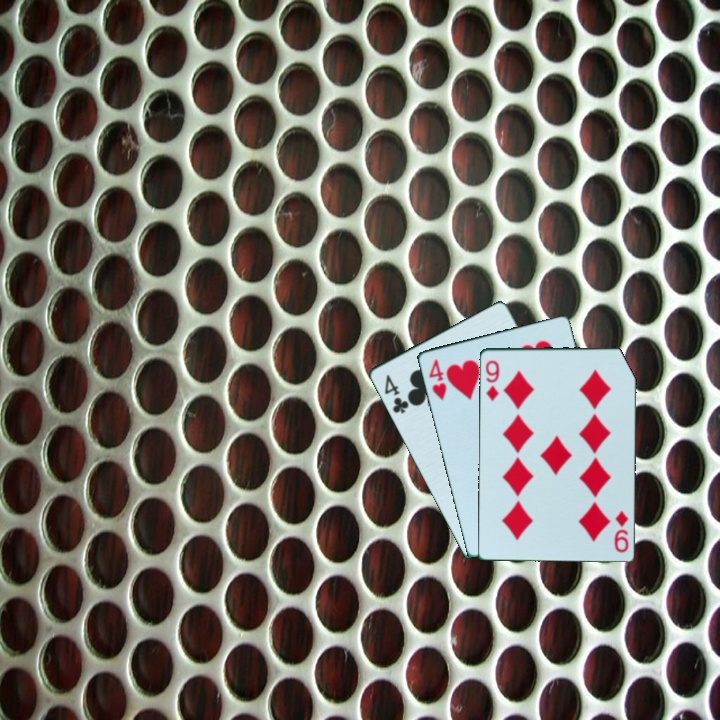4c: (380, 371, 411, 416)
4h: (425, 355, 449, 403)
9d: (611, 507, 631, 555), (482, 357, 502, 404)
